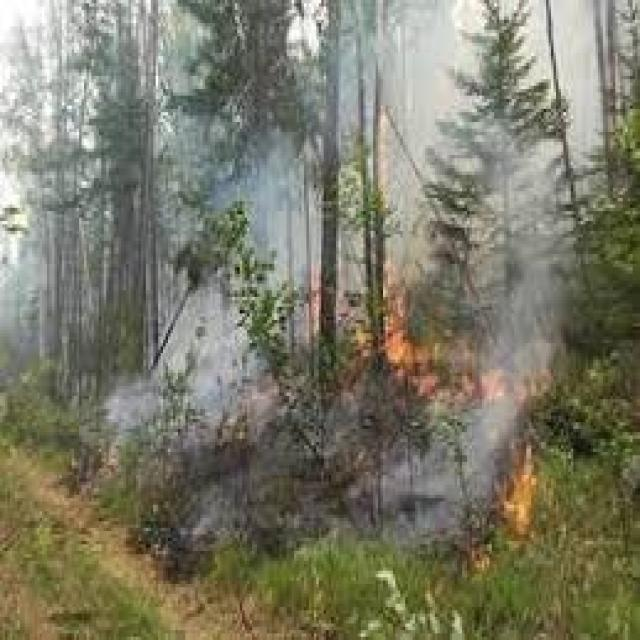Fire: (380, 256, 562, 424), (473, 429, 571, 561)
Smoke: (278, 367, 550, 542), (103, 278, 280, 443), (228, 130, 334, 334), (343, 0, 452, 121)
